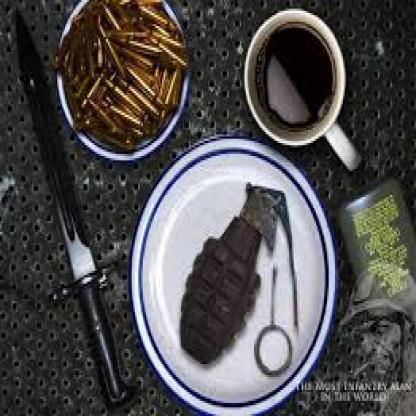Grenade: (179, 180, 301, 377)
Knife: (15, 3, 140, 410)
